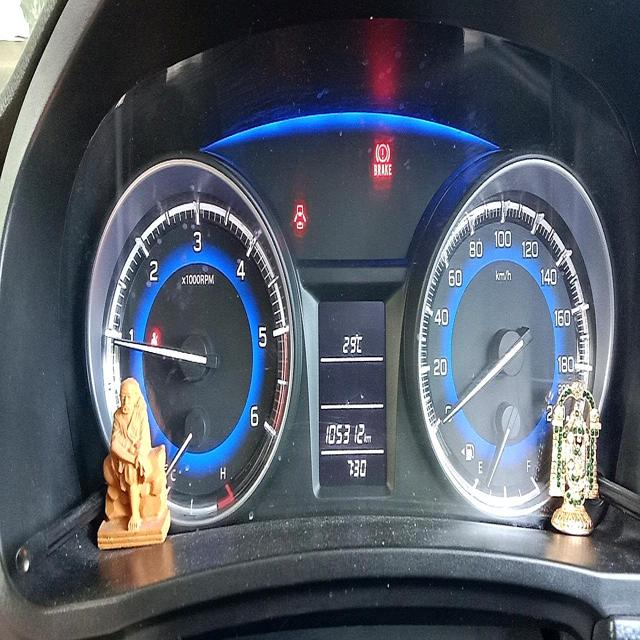odometer: (321, 424, 366, 446)
